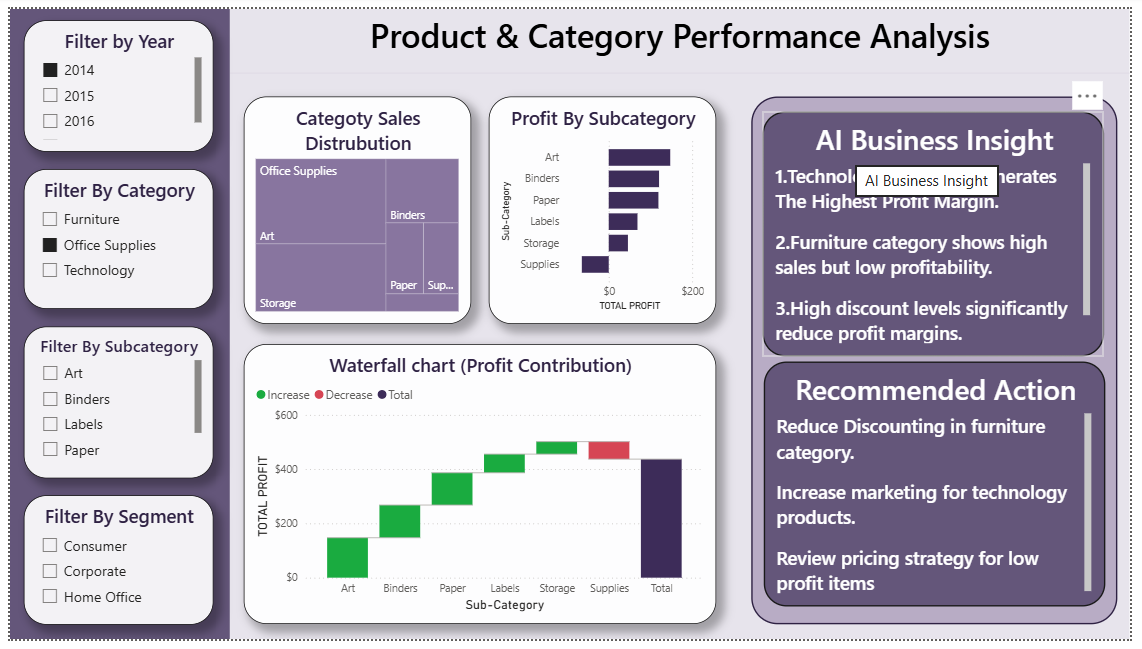

The dashboard page shown, as its layout file describes it:
{"tool":"powerbi","page":{"name":"Performance Analysis","canvas":[1280,720],"ordinal":1},"visuals":[{"type":"textbox","box":[0,0,251,720],"z":0},{"type":"textbox","title":"Product & Category Analysis","box":[251.7,0,1028.3,73.3],"z":1000},{"type":"textbox","box":[252,73,1028,647],"z":2000},{"type":"treemap","title":"Categoty Sales Distrubution","fields":{"Details":["superstore sales _hackethon1 (1).Sub-Category"],"Group":["superstore sales _hackethon1 (1).Category"],"Values":["superstore sales _hackethon1 (1).TOTAL SALES"]},"box":[266.7,100,260,260],"z":3000},{"type":"clusteredBarChart","title":"Profit By Subcategory","fields":{"Y":["superstore sales _hackethon1 (1).TOTAL PROFIT"],"Category":["superstore sales _hackethon1 (1).Sub-Category"]},"box":[546.7,100,260,260],"z":4000},{"type":"waterfallChart","title":"Waterfall chart (Profit Contribution)","fields":{"Y":["superstore sales _hackethon1 (1).TOTAL PROFIT"],"Category":["superstore sales _hackethon1 (1).Sub-Category"]},"box":[266.7,383.3,540,320],"z":5000},{"type":"slicer","title":"Filter by Year","fields":{"Values":["superstore sales _hackethon1 (1).Year"]},"box":[15,13.3,216.7,150],"z":6000},{"type":"slicer","title":"Filter By Category","fields":{"Values":["superstore sales _hackethon1 (1).Category"]},"box":[15,182.8,216.7,160],"z":7000},{"type":"slicer","title":"Filter By Subcategory","fields":{"Values":["superstore sales _hackethon1 (1).Sub-Category"]},"box":[15,362.2,216.7,173.3],"z":8000},{"type":"slicer","title":"Filter By Segment","fields":{"Values":["superstore sales _hackethon1 (1).Segment"]},"box":[15,555,216.7,148.3],"z":9000},{"type":"textbox","box":[846.7,100,418.3,603.3],"z":10000},{"type":"textbox","title":"AI Business Insight","box":[860,116.7,390,280],"z":11000},{"type":"textbox","title":"Recommended Action","box":[861.7,403.3,390,280],"z":12000}]}

Visuals, with their boxes in screenshot pixels (x1, y1, x2, y2), scaled from the page's 1280x720 canvas onto the 1142x649 screenshot:
textbox: [x1=0, y1=0, x2=224, y2=648]
"Product & Category Analysis" textbox: [x1=225, y1=0, x2=1141, y2=66]
textbox: [x1=225, y1=66, x2=1141, y2=648]
"Categoty Sales Distrubution" treemap: [x1=238, y1=90, x2=470, y2=324]
"Profit By Subcategory" clusteredBarChart: [x1=488, y1=90, x2=720, y2=324]
"Waterfall chart (Profit Contribution)" waterfallChart: [x1=238, y1=346, x2=720, y2=634]
"Filter by Year" slicer: [x1=13, y1=12, x2=207, y2=147]
"Filter By Category" slicer: [x1=13, y1=165, x2=207, y2=309]
"Filter By Subcategory" slicer: [x1=13, y1=326, x2=207, y2=483]
"Filter By Segment" slicer: [x1=13, y1=500, x2=207, y2=634]
textbox: [x1=755, y1=90, x2=1129, y2=634]
"AI Business Insight" textbox: [x1=767, y1=105, x2=1115, y2=358]
"Recommended Action" textbox: [x1=769, y1=364, x2=1117, y2=616]
